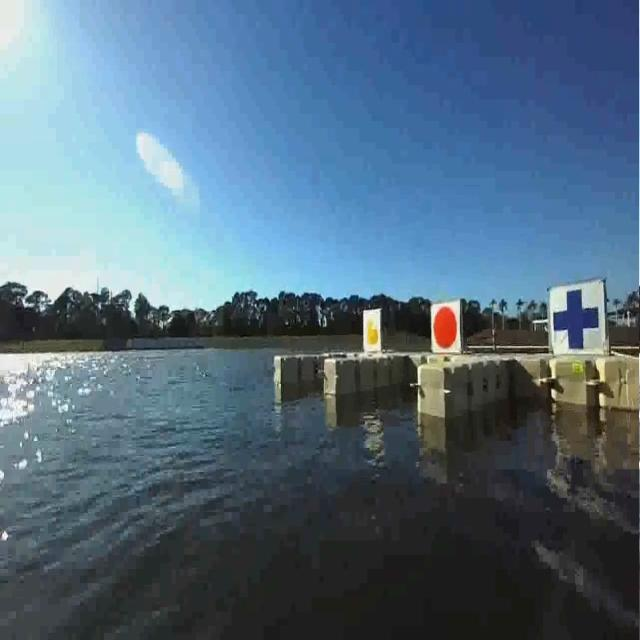blue-cross: (539, 276, 610, 357)
red-dot: (429, 296, 464, 355)
yellow-duck: (361, 304, 384, 358)
